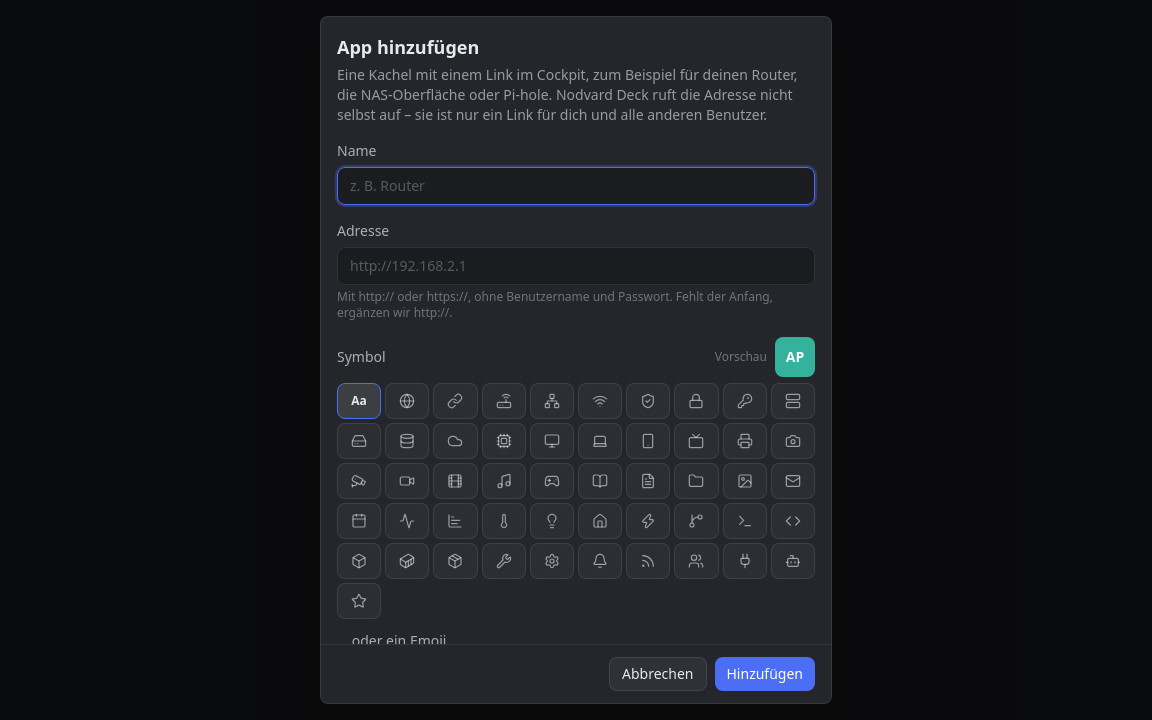
Test: AppDialog: neue App › ein Fehler verschwindet, sobald man das Feld ändert
Click the button "Hinzufügen".
click(765, 674)  # box x1=714 y1=657 x2=815 y2=691
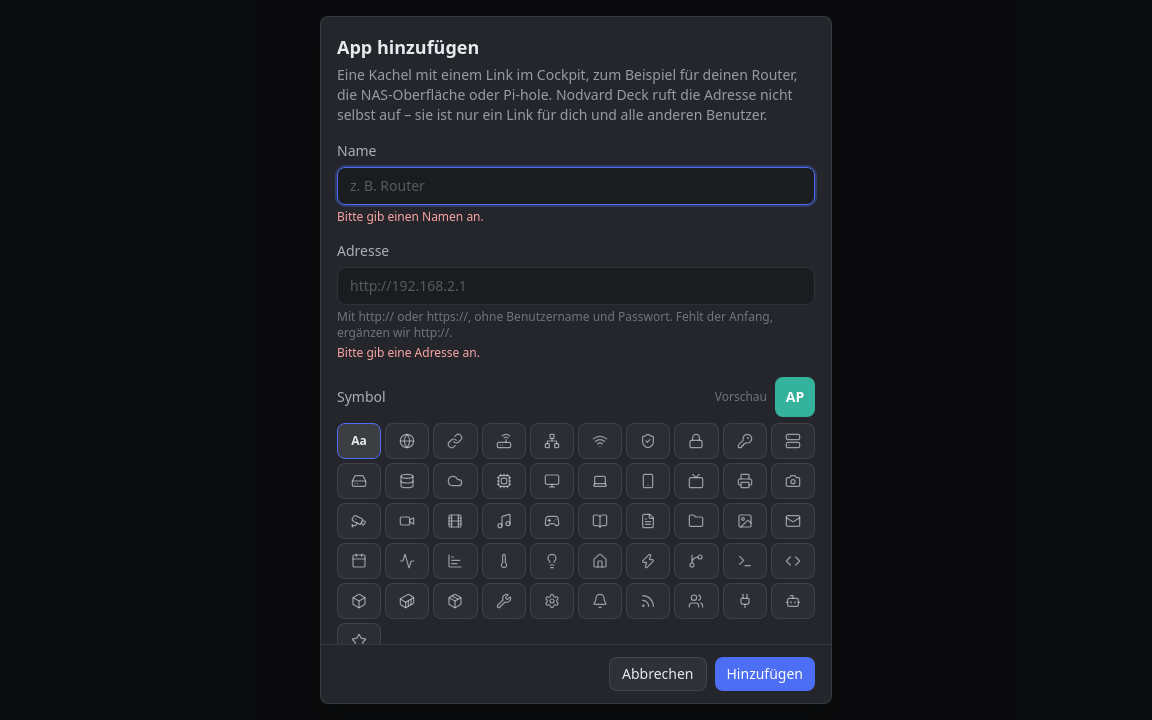
Now the text "Bitte gib einen Namen an." is shown, box x1=337 y1=208 x2=484 y2=225
Type "Router" into the field labelled "Name".
click(576, 186); type("Router")  # box x1=337 y1=167 x2=815 y2=205
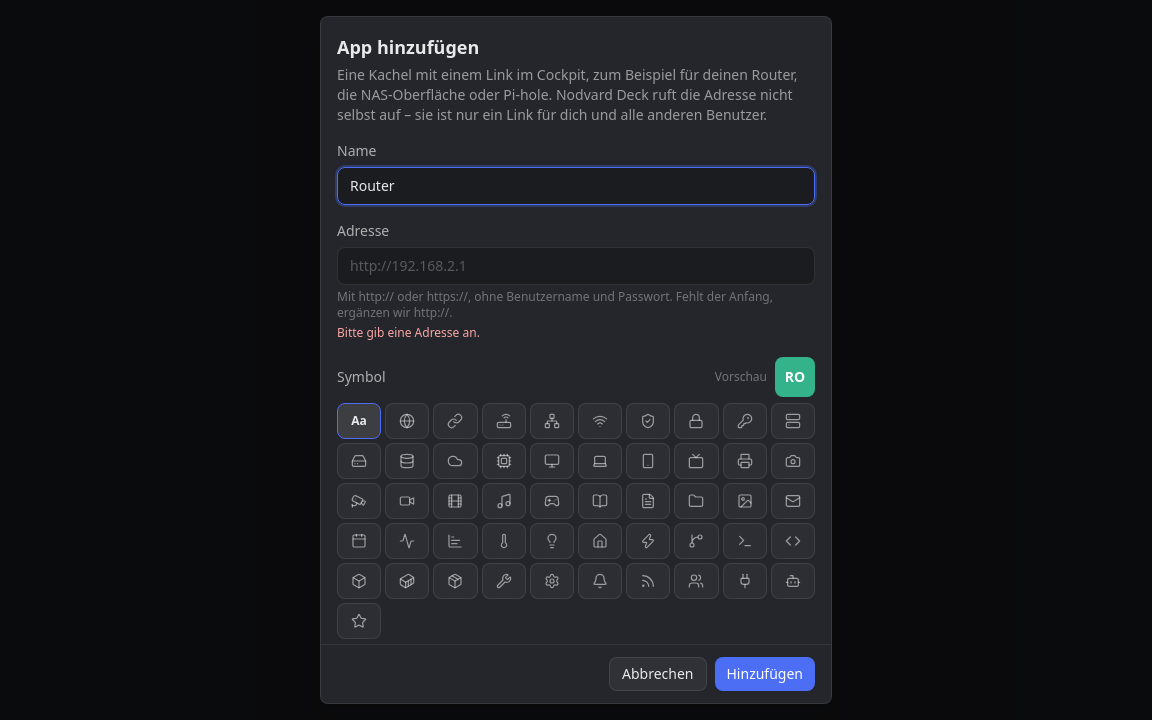
Now the text "Bitte gib einen Namen an." is gone
